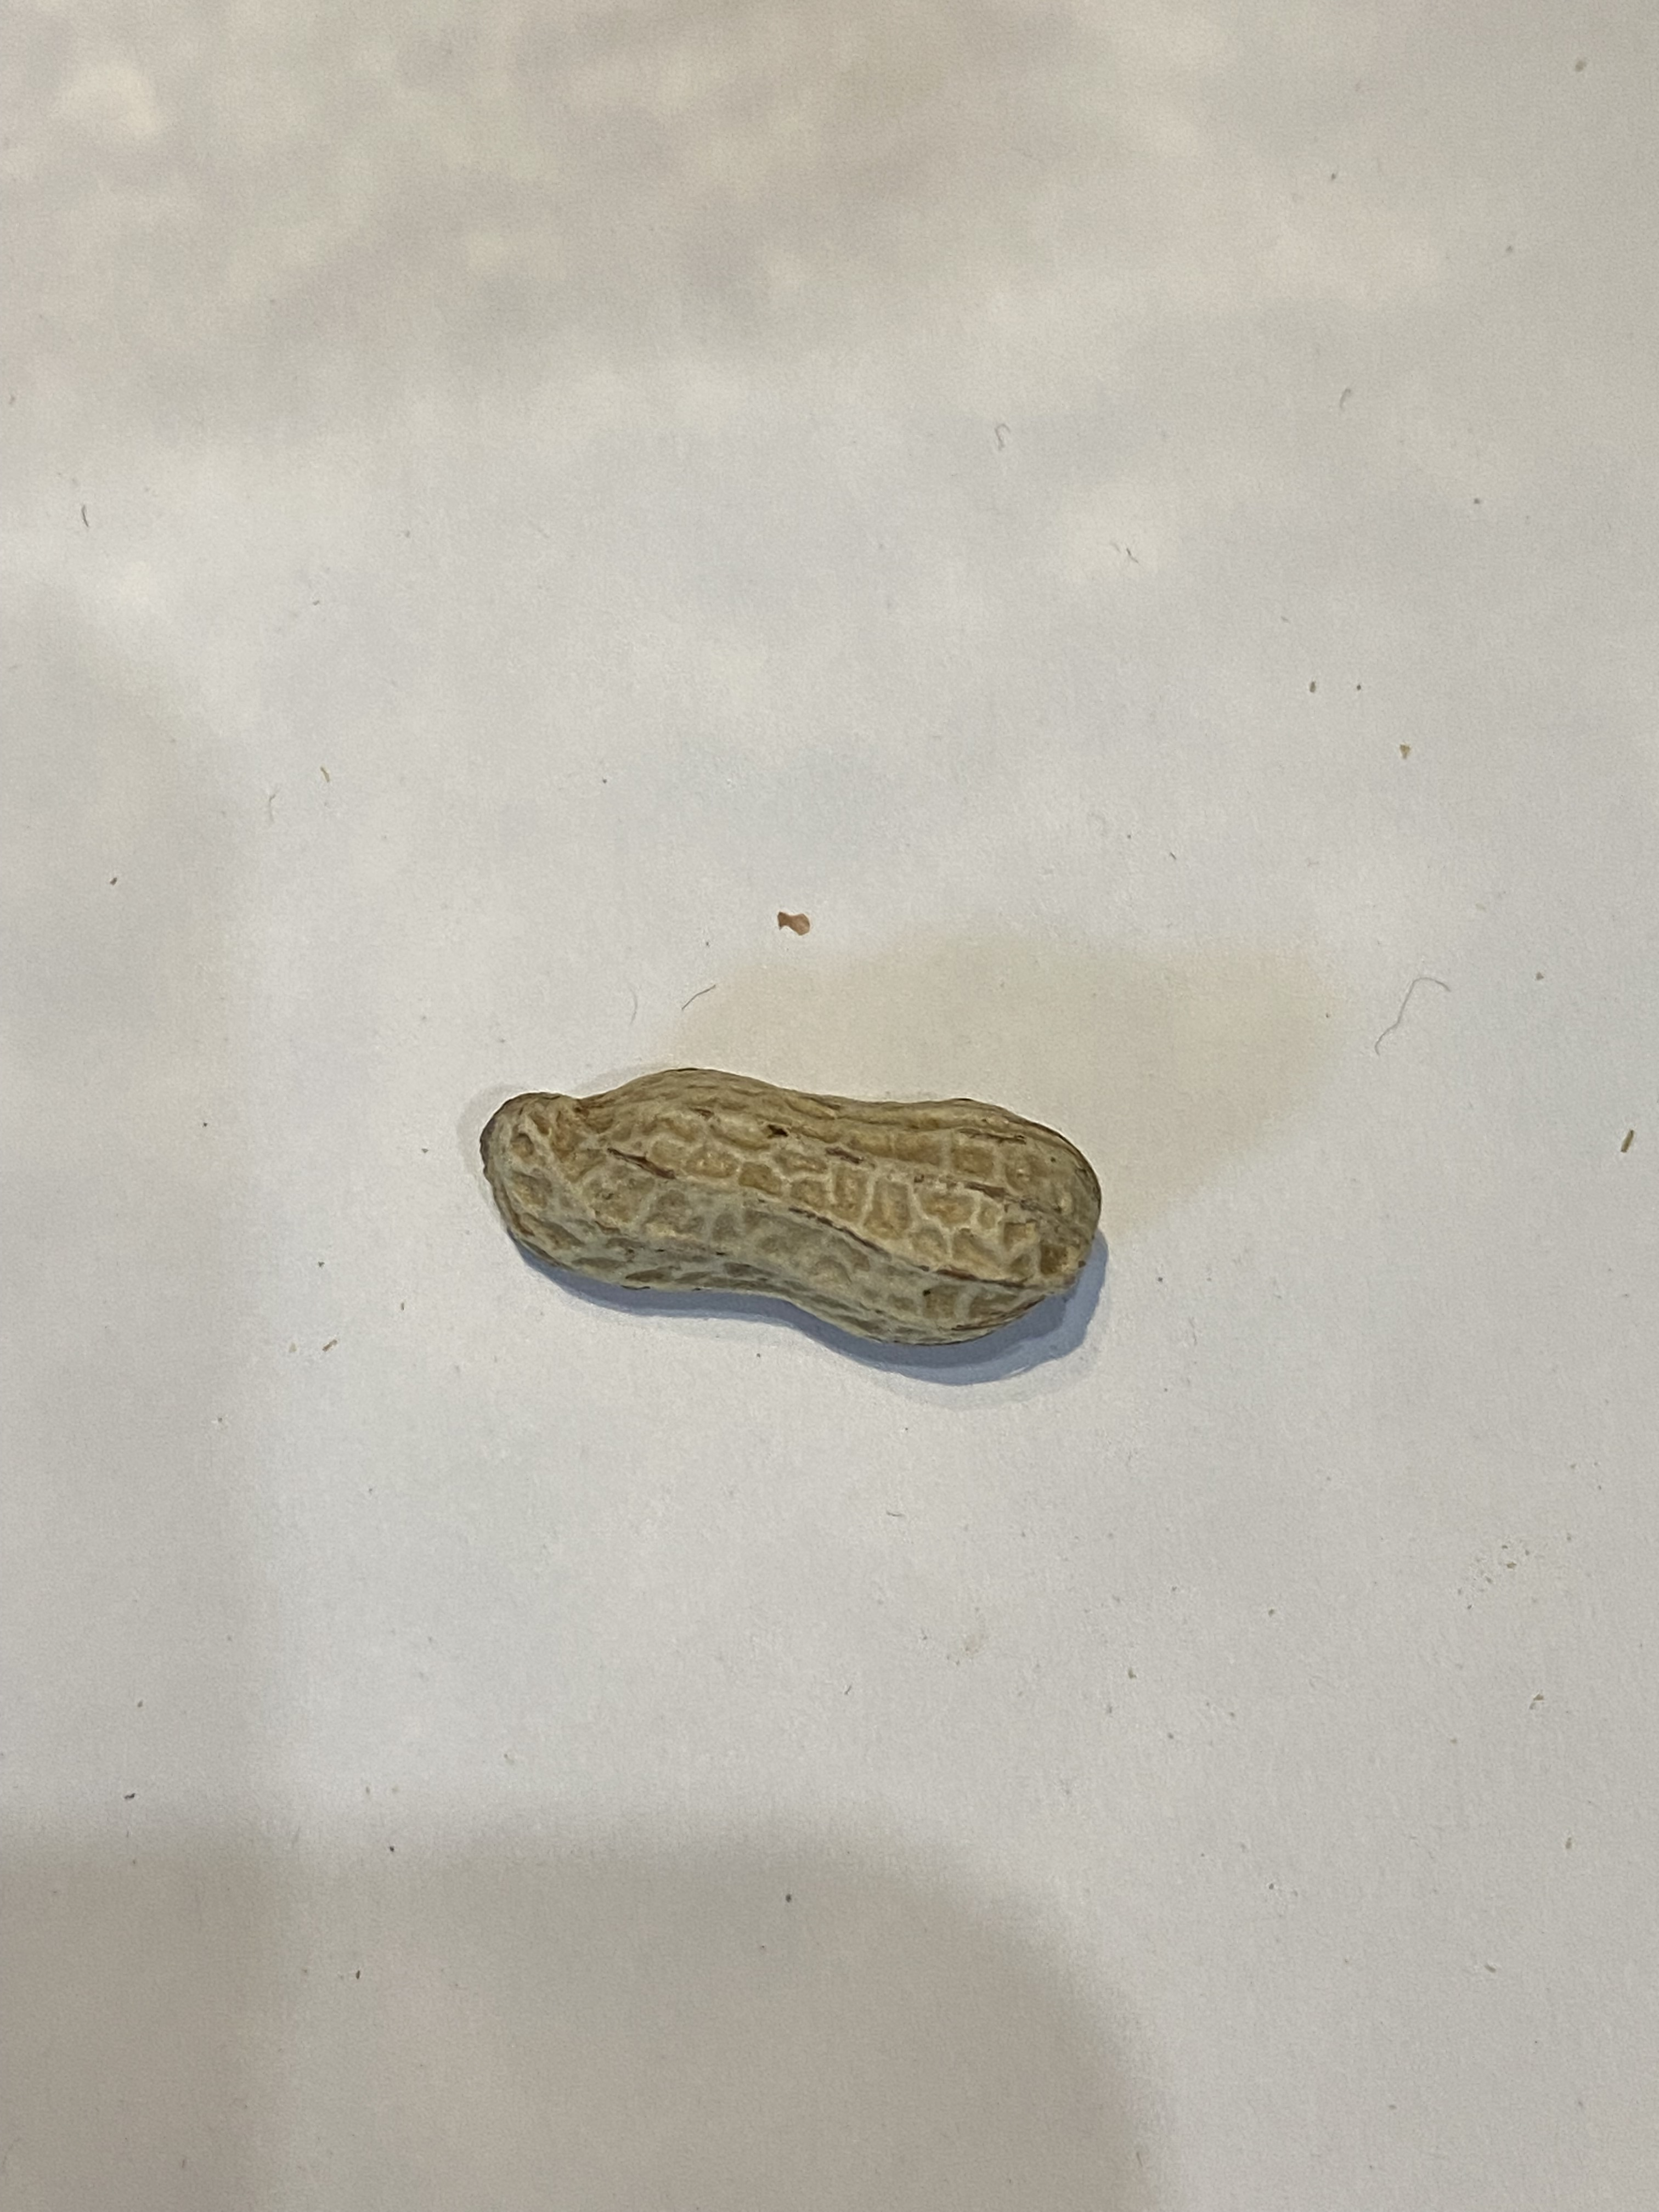kacang2: (474, 1031, 1122, 1357)
